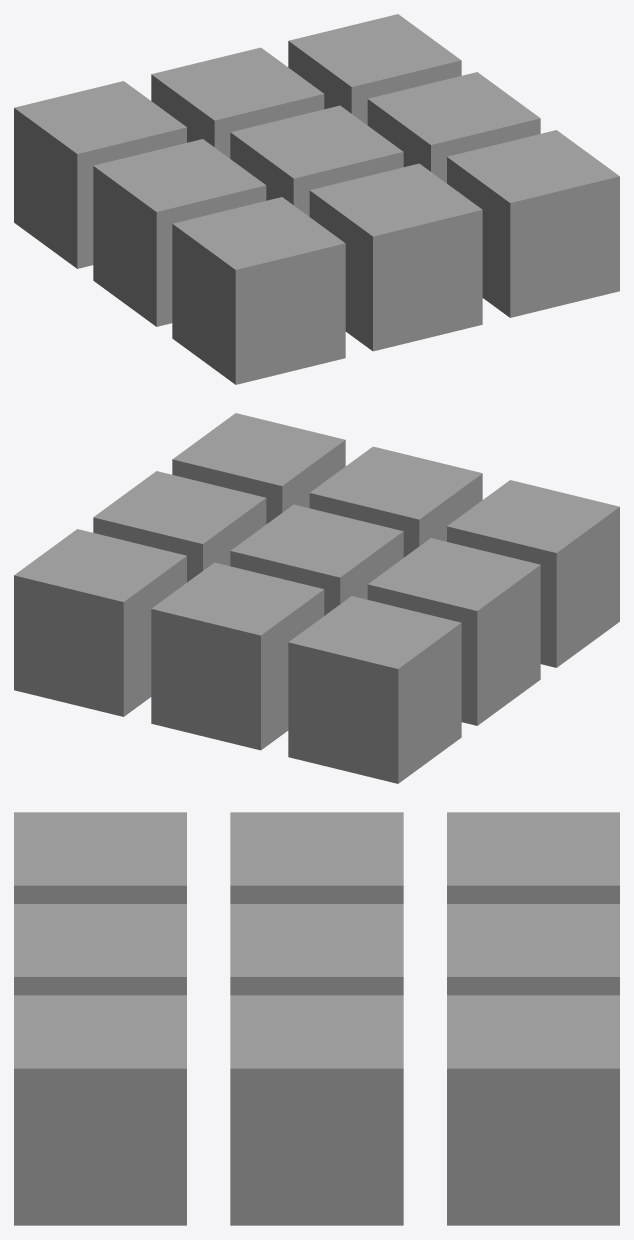
Rendered from floor.cube.obj.
3 renders of one model, top to bottom at view 1: azimuth 30°, elevation 25°; view 2: azimuth 150°, elevation 25°; view 3: azimuth 270°, elevation 25°, orthographic. The views are drawn at different scales.
Bounding box in the file's own units: 2.8 × 0.8 × 2.8.
Materials: 1 (1 with a texture image).
